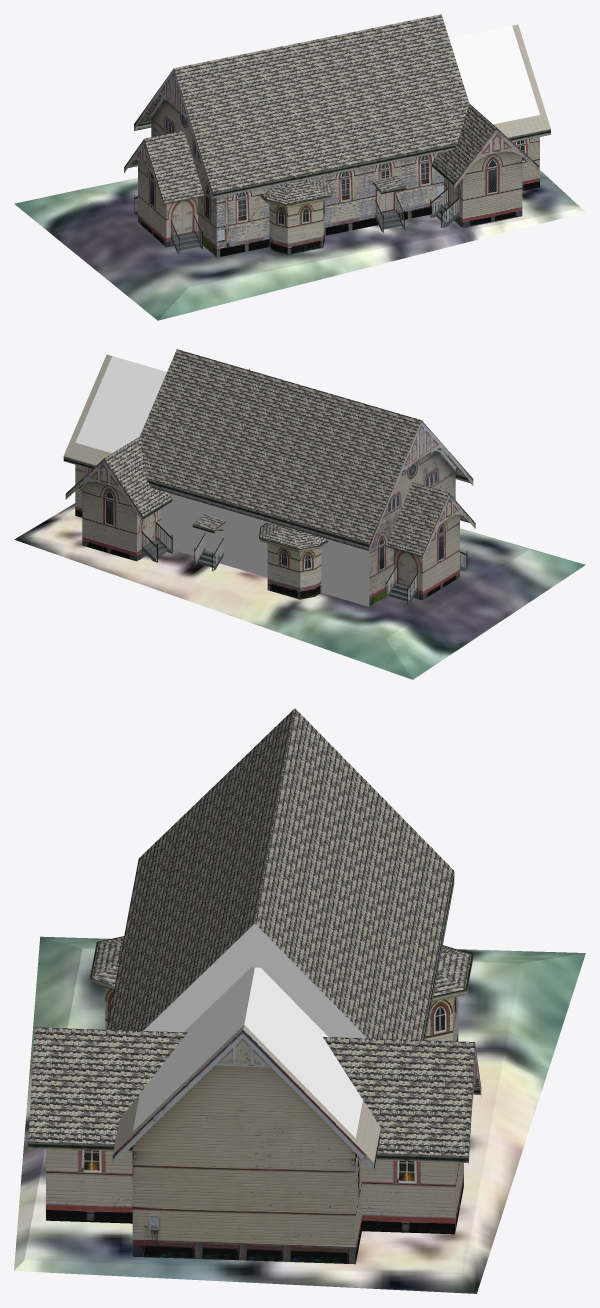
File: Building-in-Broadwater_-NSW_Australia.fbx
3 views of the same model, one above another, from view 1: azimuth 30°, elevation 25°; view 2: azimuth 150°, elevation 25°; view 3: azimuth 270°, elevation 25° (orthographic). The views are drawn at different scales.
Parts seen in each view (by area): view 1: Model; view 2: Model; view 3: Model.
Boxes of the visible parts, x1=… form: Model: x1=14, y1=14, x2=585, y2=320; Model: x1=14, y1=349, x2=585, y2=679; Model: x1=14, y1=708, x2=585, y2=1293.
Bounding box in the file's own units: 29.7 × 11.44 × 19.21.
